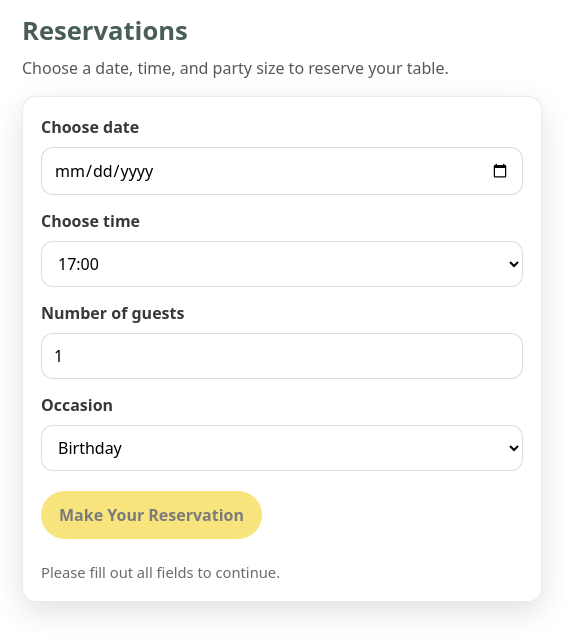
Test: BookingForm JS/React validation behavior › submit is disabled until form is valid, enabled when valid
Expected: the button showing "make your reservation" is disabled, [41,491,262,539]
Expected: the dropdown labelled "Choose time" shows "17:00", [41,241,523,287]
In the date field labelled "Choose date": (282,171) [41,147,523,195], type "2026-01-12"
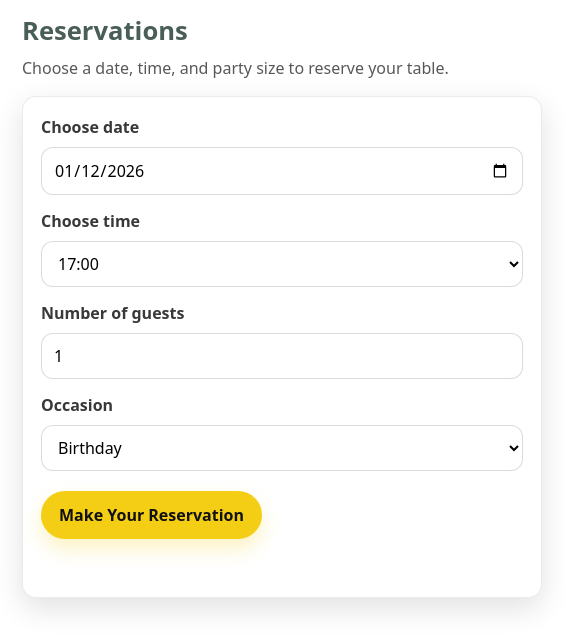
Expected: the button showing "make your reservation" is enabled, [41,491,262,539]
